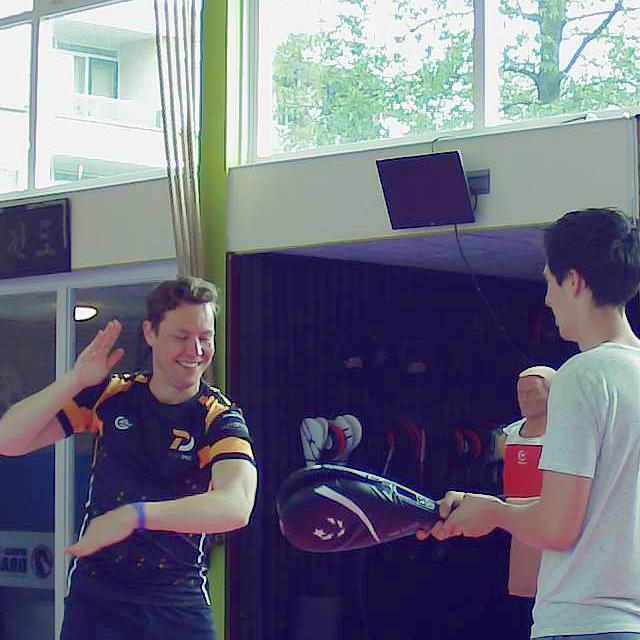paddle: (273, 461, 465, 555)
